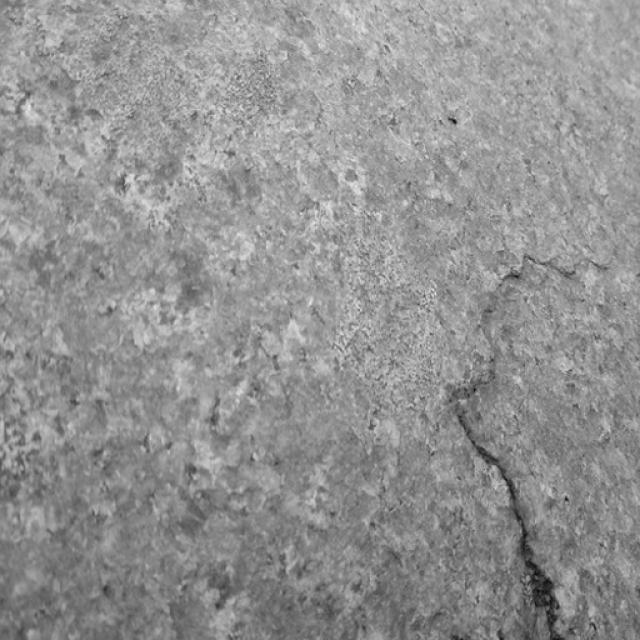SurfaceCrack: (420, 201, 638, 640)
